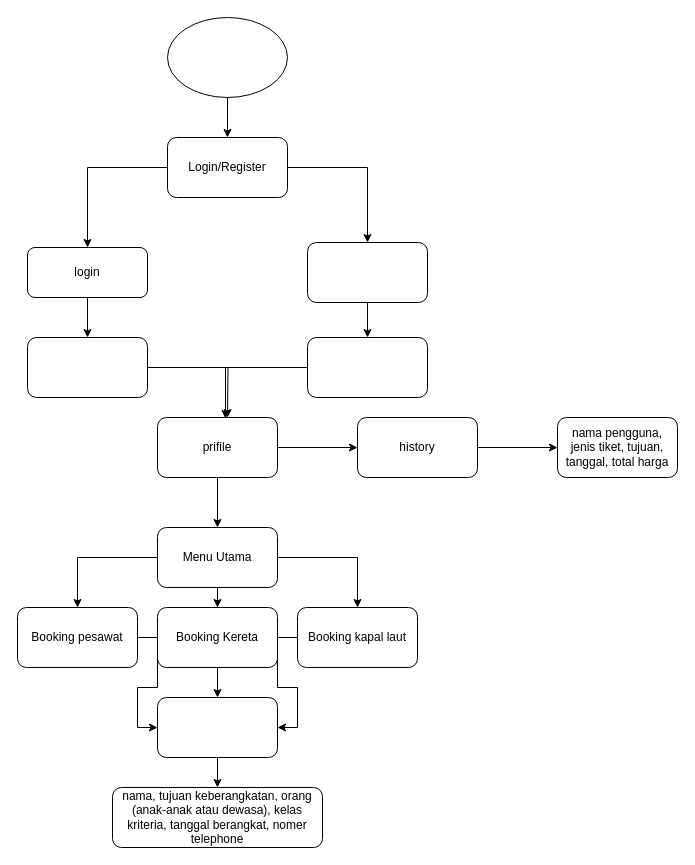
The diagram is 695 pixels wide and 865 high, and some of its shapes have lost their labels. The centre of each missing label's shape, as x and y in pixels:
"Masukan email dan password" goes at (x=87, y=367).
"pengisian form register" goes at (x=367, y=367).
"Pesan tiket" goes at (x=217, y=727).
"Register" goes at (x=367, y=272).
"star" goes at (x=227, y=57).
